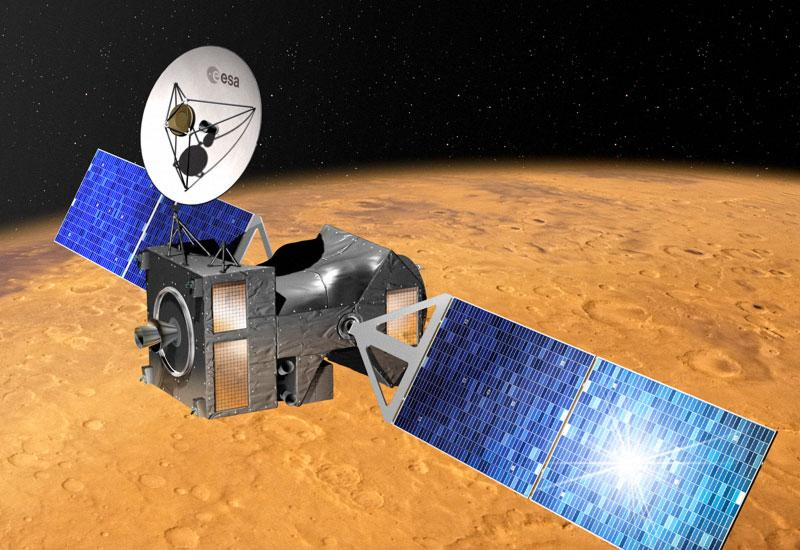antenna: (139, 44, 264, 207)
body: (138, 223, 425, 425)
solar: (390, 296, 780, 550), (53, 145, 257, 292)
thruster: (133, 313, 179, 356), (281, 389, 299, 407), (277, 359, 295, 375), (183, 280, 195, 290), (188, 407, 198, 417), (132, 252, 141, 262), (136, 376, 146, 384)
